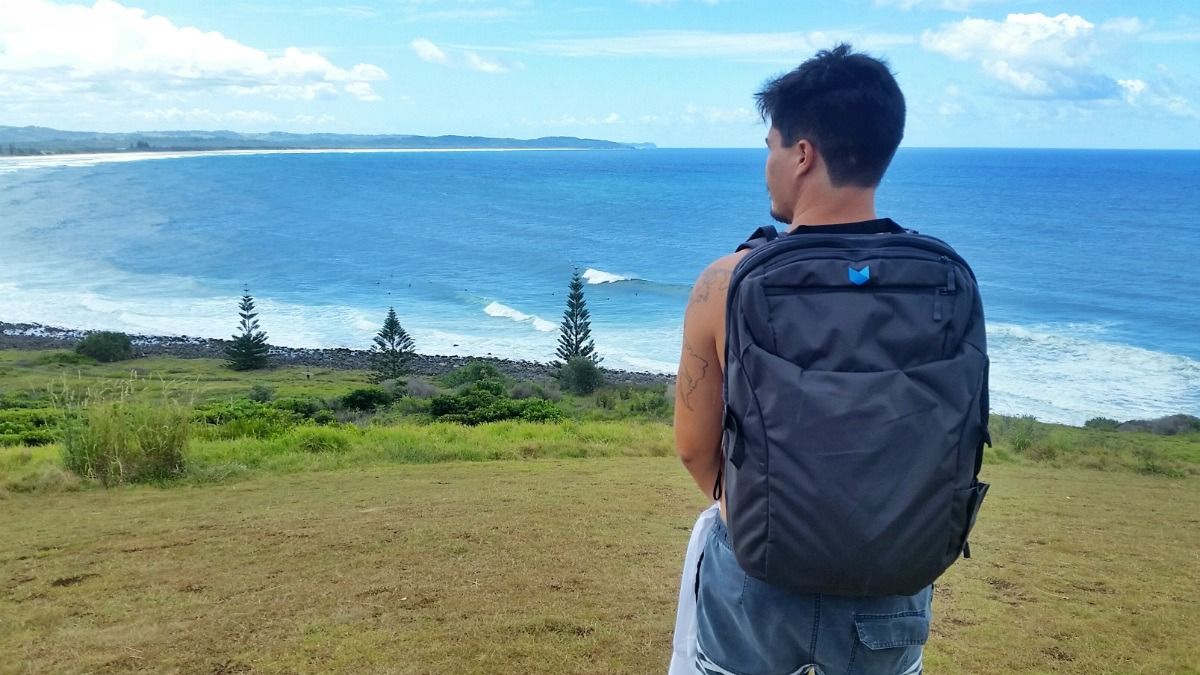backpack: (635, 201, 1049, 615)
